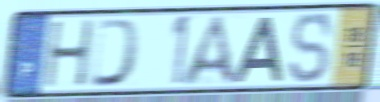1: (169, 13, 193, 89)
A: (178, 13, 241, 88), (230, 15, 285, 85)
D: (87, 16, 143, 89)
H: (43, 17, 97, 90)
S: (287, 10, 335, 86)
